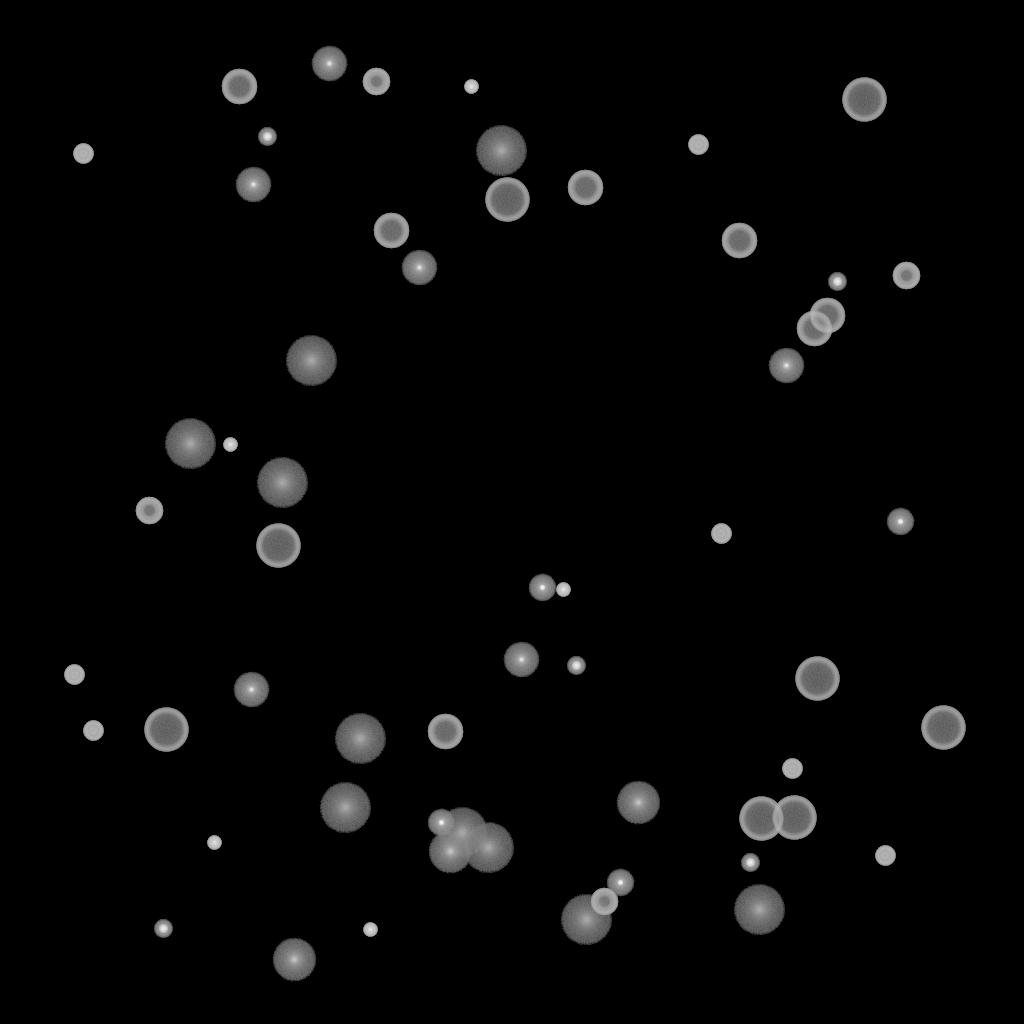depth:-10: (886, 508, 914, 536), (427, 809, 455, 837), (528, 574, 556, 602), (606, 869, 634, 897)
depth:-20: (567, 657, 585, 675), (828, 273, 846, 291), (154, 920, 172, 938), (741, 854, 759, 872), (258, 128, 276, 146)
depth:-30: (223, 438, 237, 452), (556, 583, 570, 597), (363, 923, 377, 937), (207, 836, 221, 850), (464, 80, 478, 94)
depth:-40: (64, 665, 84, 685), (875, 846, 895, 866), (73, 144, 93, 164), (711, 524, 731, 544), (83, 721, 103, 741), (782, 759, 802, 779), (688, 135, 708, 155)
depth:-50: (362, 68, 390, 96), (590, 888, 618, 916), (135, 497, 163, 525), (892, 262, 920, 290)
depth:-60: (427, 714, 463, 750), (796, 311, 832, 347), (373, 213, 409, 249), (221, 69, 257, 105), (567, 170, 603, 206), (809, 298, 845, 334), (721, 223, 757, 259)
depth:-70: (795, 657, 839, 701), (256, 524, 300, 568), (772, 796, 816, 840), (842, 78, 886, 122), (485, 178, 529, 222), (921, 706, 965, 750), (144, 708, 188, 752), (739, 797, 783, 841)
depth:0: (233, 672, 269, 708), (235, 167, 271, 203), (401, 250, 437, 286), (311, 46, 347, 82), (768, 348, 804, 384), (503, 642, 539, 678)
depth:10: (616, 781, 660, 825), (272, 938, 316, 982), (428, 830, 472, 874)
depth:20: (475, 126, 527, 176), (462, 823, 514, 873), (334, 714, 386, 764), (560, 895, 612, 945), (285, 336, 337, 386), (164, 419, 216, 469), (319, 783, 371, 833), (436, 808, 488, 858), (256, 458, 308, 508), (733, 885, 785, 935)
